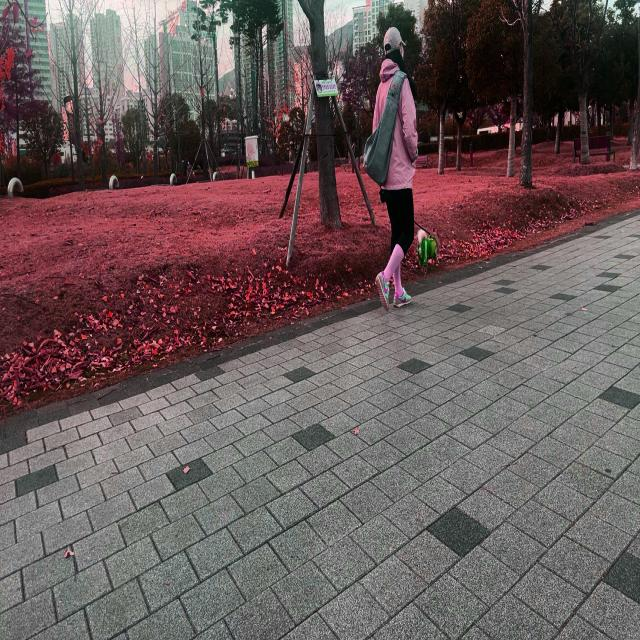Leashed_Dog: (396, 172, 441, 276)
